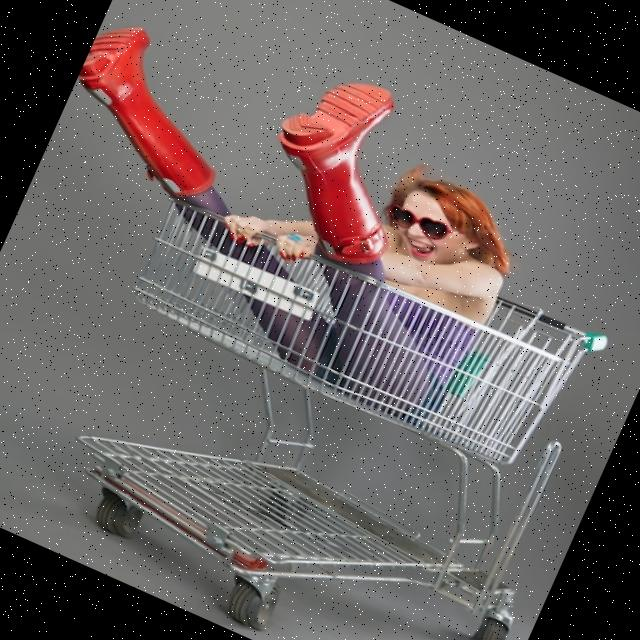Person: (5, 0, 559, 434)
